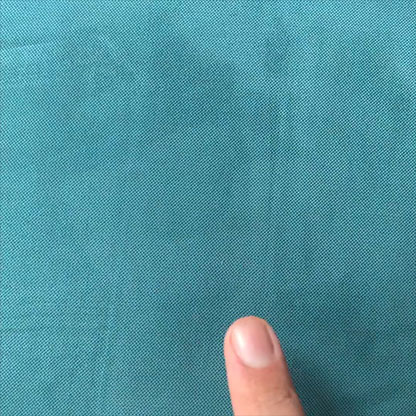fingertip: (208, 305, 303, 388)
